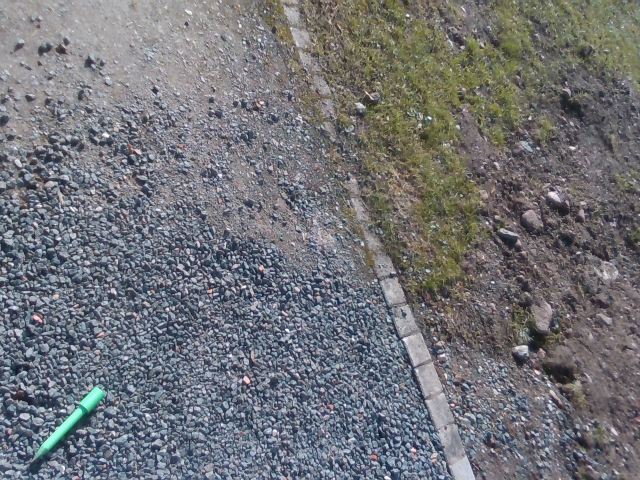Probe: (25, 383, 108, 468)
